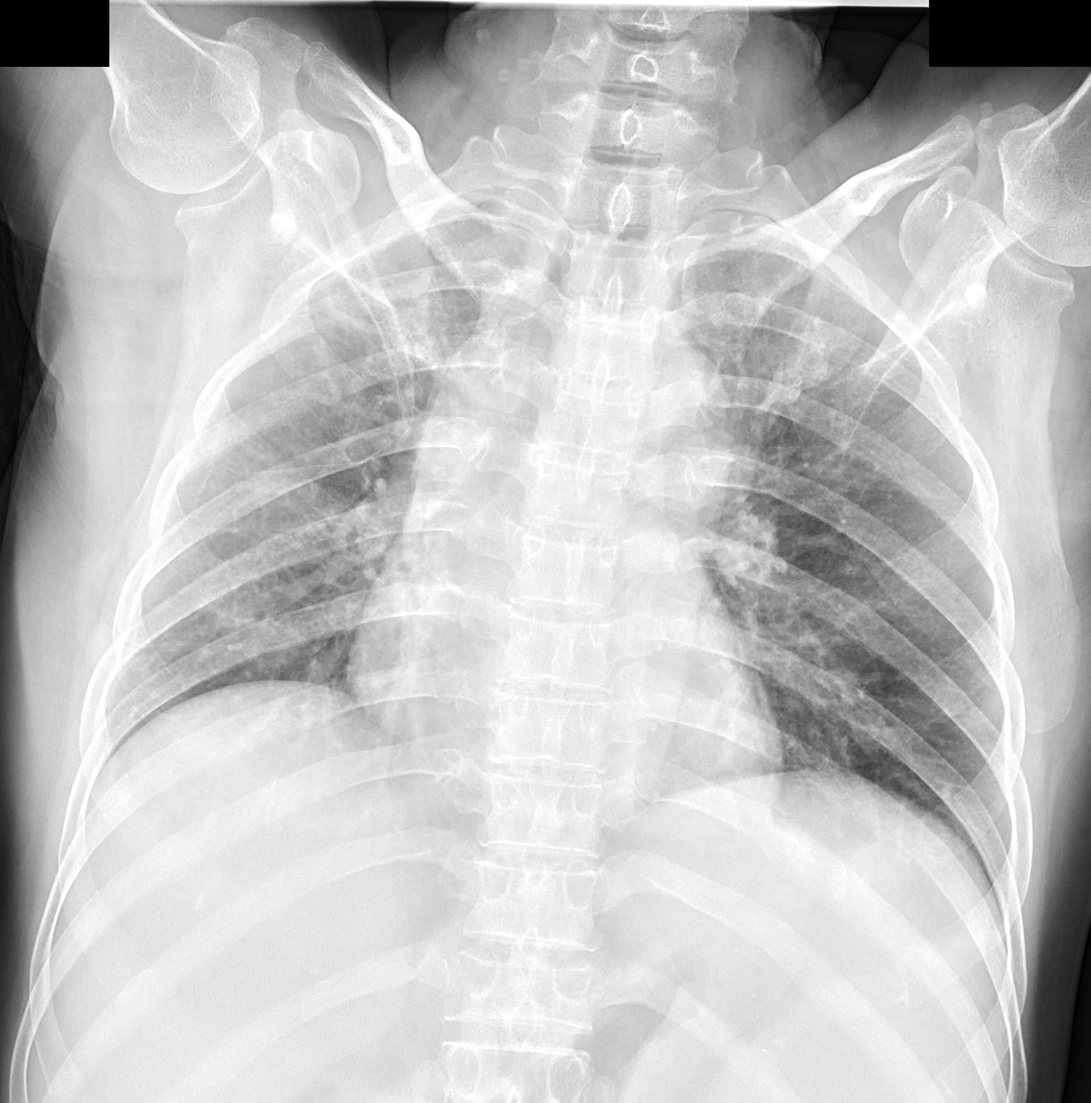Aortic enlargement: (411, 295, 734, 528)
Pleural thickening: (445, 187, 510, 213)
Pulmonary fibrosis: (260, 434, 401, 475)
